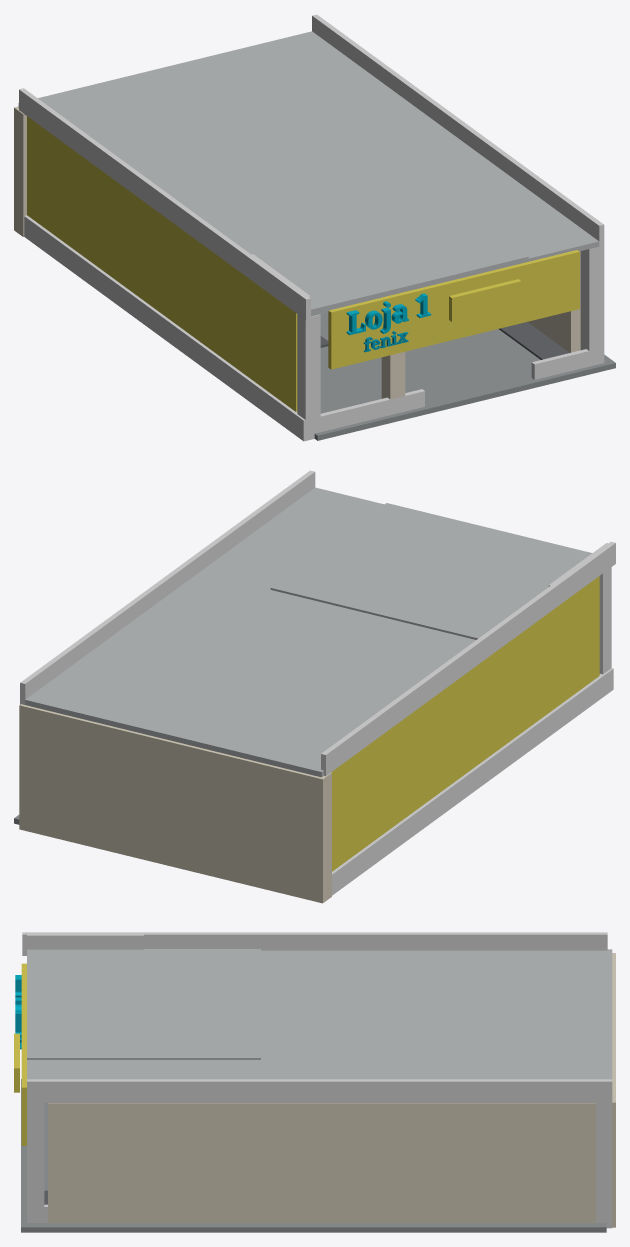
File: projfenix2.glb
3 renders of one model, top to bottom at view 1: azimuth 30°, elevation 25°; view 2: azimuth 150°, elevation 25°; view 3: azimuth 270°, elevation 25°, orthographic.
Visible parts, largest first — view 1: Mesh_Mesh_head_geo.001_lambert2SG.001; view 2: Mesh_Mesh_head_geo.001_lambert2SG.001; view 3: Mesh_Mesh_head_geo.001_lambert2SG.001.
Part boxes in pixels (box(x1,y1,x2,y2)): Mesh_Mesh_head_geo.001_lambert2SG.001: box(14, 14, 615, 441); Mesh_Mesh_head_geo.001_lambert2SG.001: box(14, 470, 615, 903); Mesh_Mesh_head_geo.001_lambert2SG.001: box(14, 932, 615, 1232).
Bounding box in the file's own units: 312 × 138 × 514.
